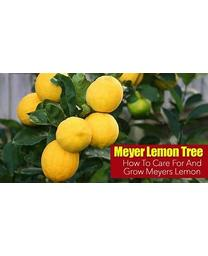lemon: (43, 140, 80, 179), (56, 117, 92, 154), (87, 77, 123, 114), (85, 111, 118, 148), (128, 91, 153, 116)
